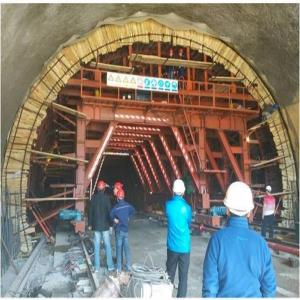red: (117, 189, 125, 204), (114, 183, 123, 195), (98, 182, 106, 195), (169, 47, 174, 59), (179, 48, 185, 58)
white: (223, 180, 257, 225), (172, 179, 186, 202), (266, 186, 273, 196)
